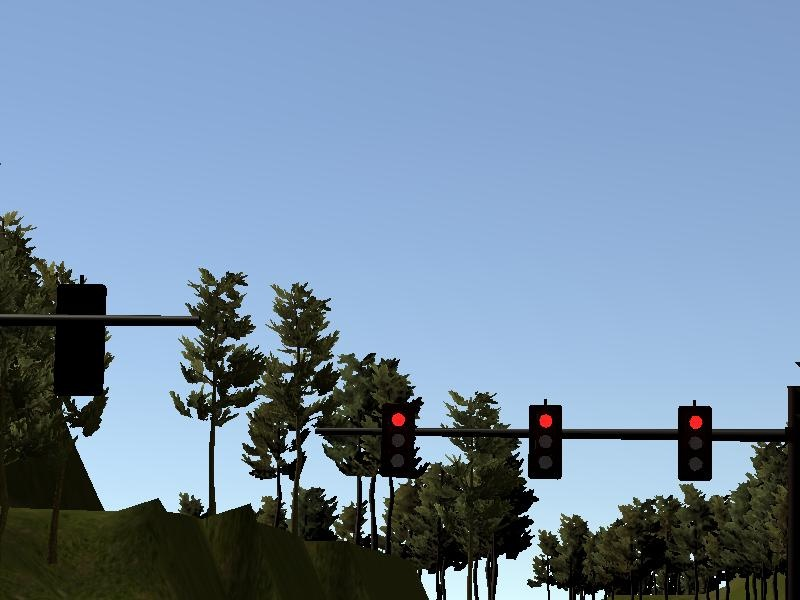red: (374, 398, 421, 479), (673, 402, 717, 484), (525, 401, 566, 481)
